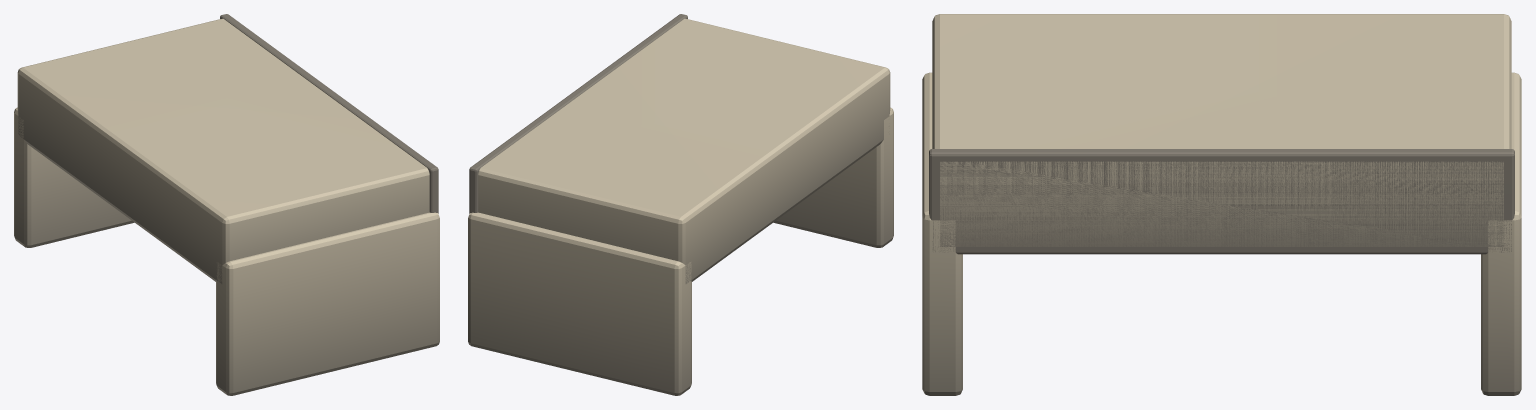
The model's file is bridge_slab.glb.
3 views of the same model, side by side, from view 1: azimuth 30°, elevation 25°; view 2: azimuth 150°, elevation 25°; view 3: azimuth 270°, elevation 25° (orthographic). The views are drawn at different scales.
Parts seen in each view (by area): view 1: Bridge; view 2: Bridge; view 3: Bridge.
Boxes of the visible parts, bbox=[...] form: Bridge: bbox=[14, 14, 439, 395]; Bridge: bbox=[468, 14, 893, 395]; Bridge: bbox=[922, 14, 1521, 395].
Size of the model in its own units: 1 by 0.795 by 1.76.
